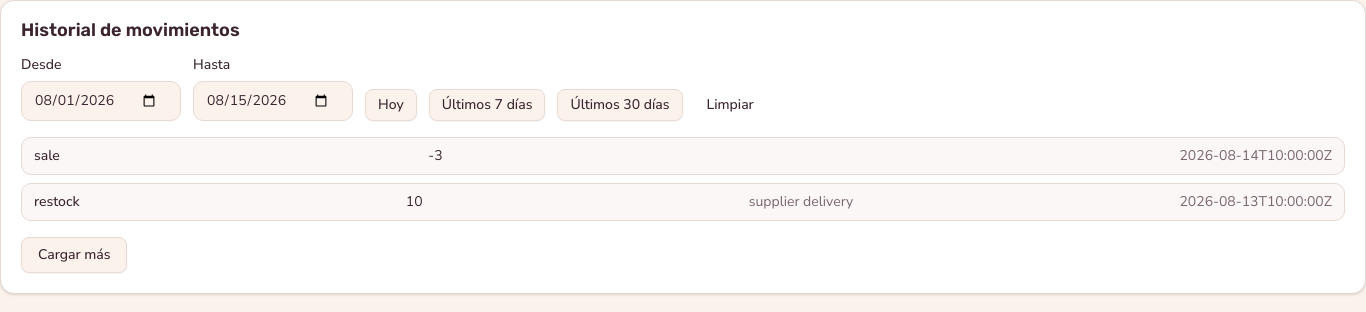
Test case: StockHistory › handleLoadMore re-sends the current since/until on the next page fetch
Click the button "Cargar más": (74, 255) [21, 237, 127, 273]
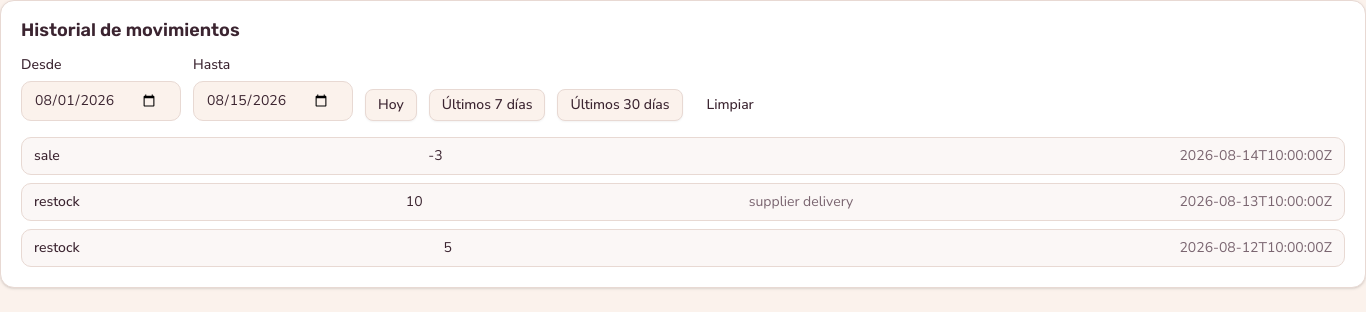
Expected: the number of list items is 3, [21, 137, 1345, 175]; [21, 183, 1345, 221]; [21, 229, 1345, 267]
